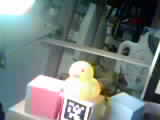duck: (56, 53, 116, 100)
